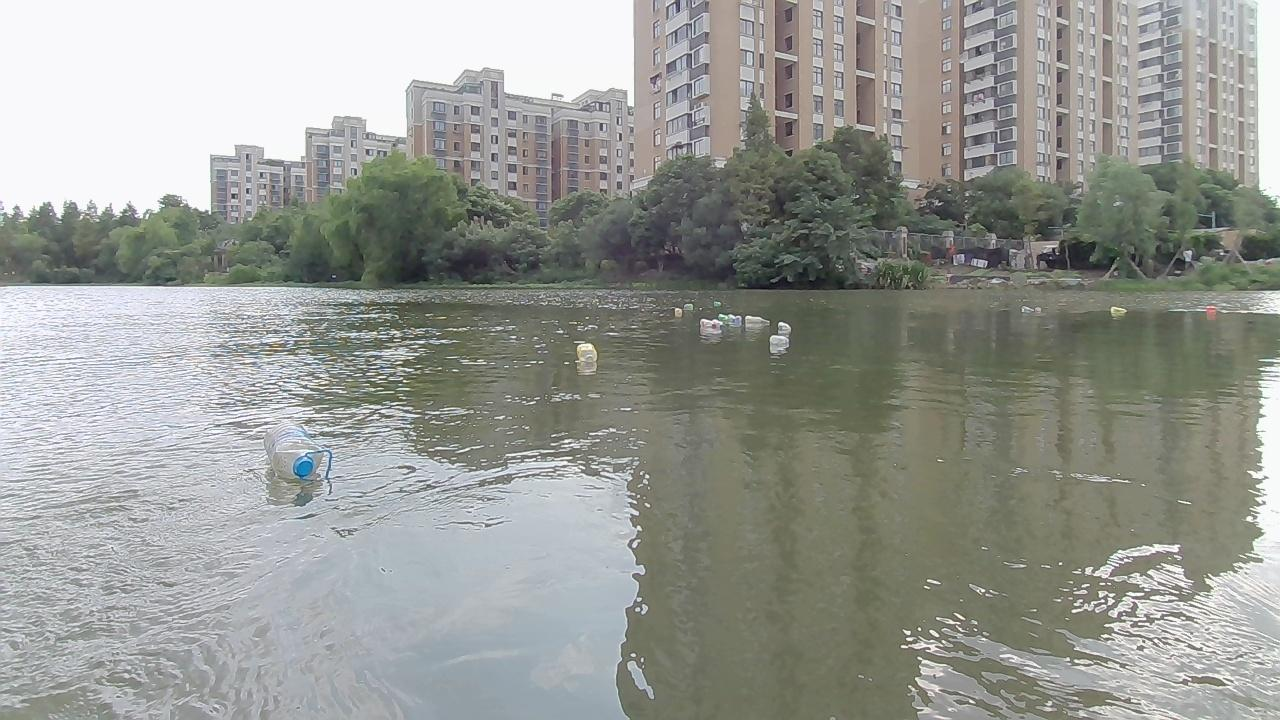bottle: (255, 419, 335, 496), (572, 340, 600, 366), (699, 316, 724, 337), (768, 334, 790, 353), (743, 312, 768, 327), (1105, 304, 1129, 319), (1019, 302, 1039, 320), (1204, 301, 1220, 322), (775, 320, 795, 336), (717, 314, 741, 327), (679, 301, 692, 311), (669, 307, 681, 317), (711, 298, 721, 304)
